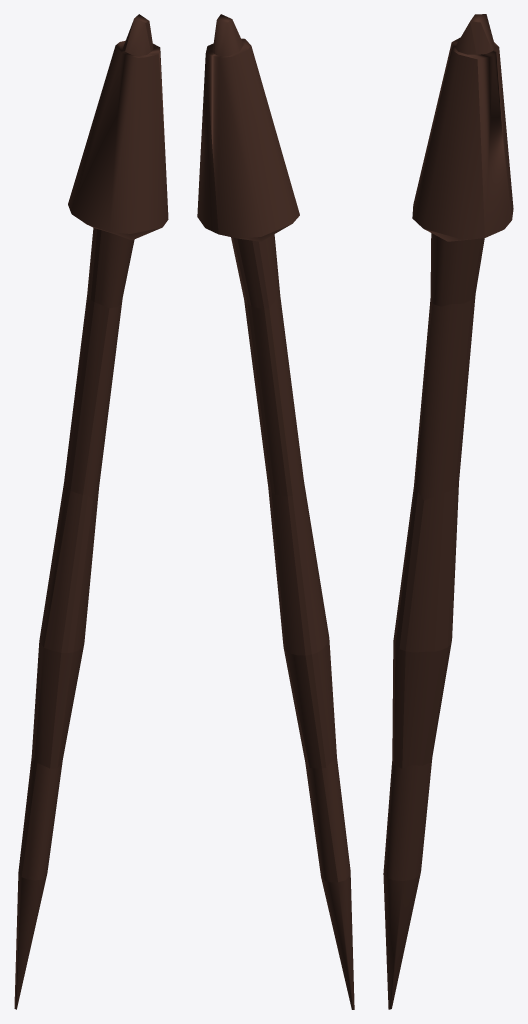
Rendered from Torch.fbx.
3 renders of one model, left to right at view 1: azimuth 30°, elevation 25°; view 2: azimuth 210°, elevation 25°; view 3: azimuth 330°, elevation 25°, orthographic. The views are drawn at different scales.
Parts seen in each view (by area): view 1: Torch; view 2: Torch; view 3: Torch.
Boxes of the visible parts, bbox=[...] form: Torch: bbox=[14, 14, 168, 1009]; Torch: bbox=[197, 14, 354, 1009]; Torch: bbox=[383, 14, 513, 1009].
Bounding box in the file's own units: 11.88 × 87.5 × 8.06.
